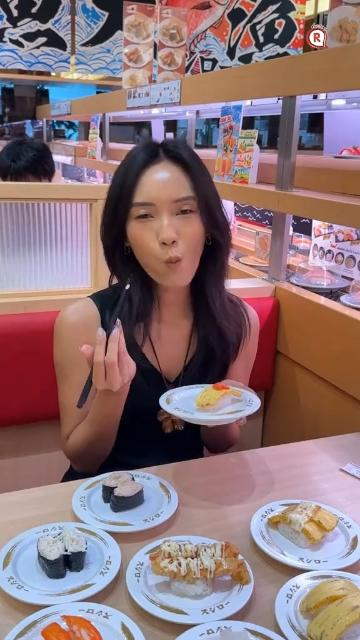janwhite: (131, 526, 257, 622), (254, 488, 360, 573), (76, 472, 192, 537), (157, 388, 269, 428), (0, 537, 43, 611), (86, 531, 127, 596), (30, 603, 145, 620), (276, 577, 306, 640), (172, 627, 287, 640)
